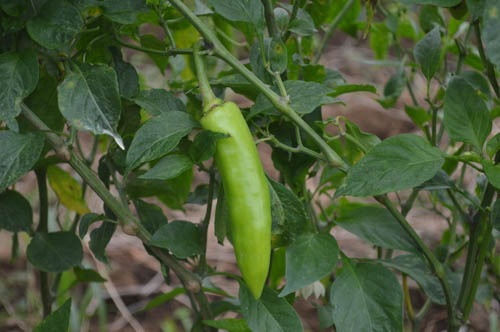ChiliPepper: (208, 103, 271, 299)
